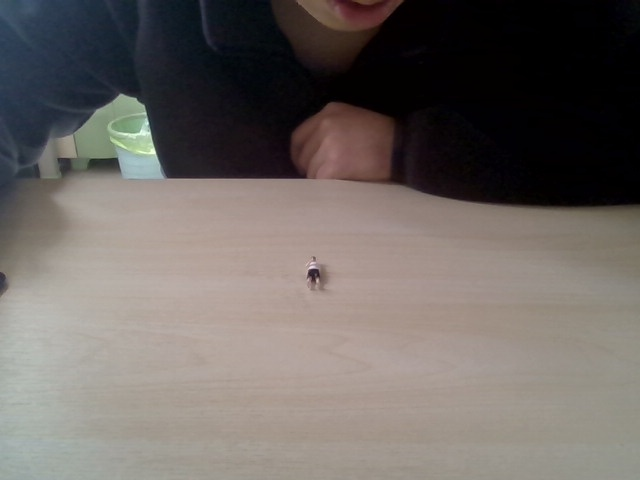fall: (303, 251, 323, 294)
